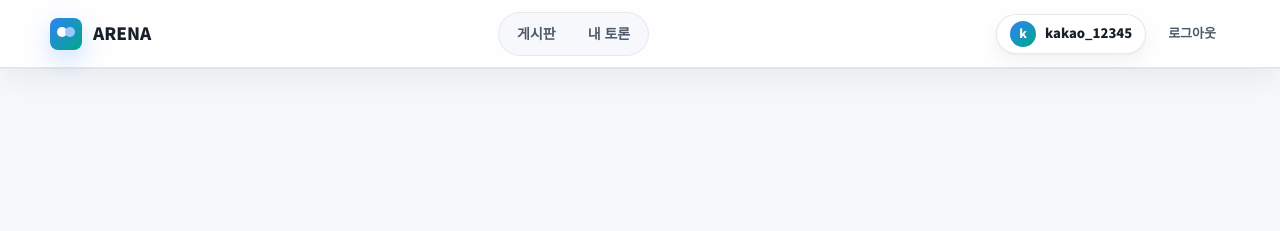
Test: AppNav › opens a compact nickname editor from the profile chip
Click the button "k kakao_12345" at (1071,34), box [996,14,1146,54]
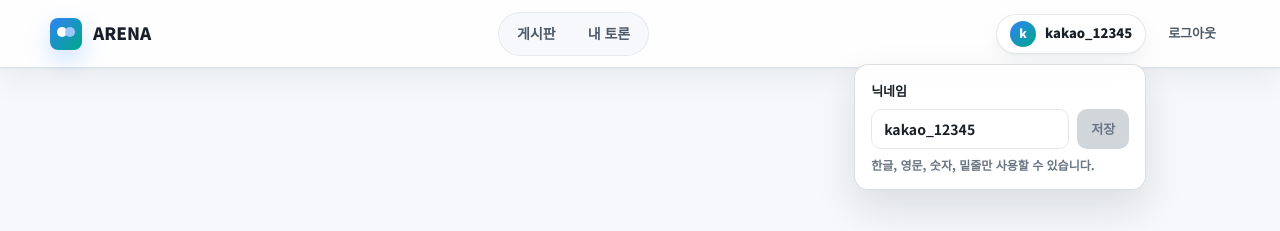
Expected: the form with id "nickname-editor" is shown, [854,64,1146,190]
Expected: the field with id "nickname-input" holds "kakao_12345", [871,109,1069,149]
